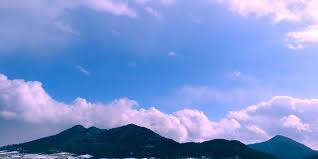mountain: (23, 124, 298, 159)
sky: (2, 1, 318, 125)
